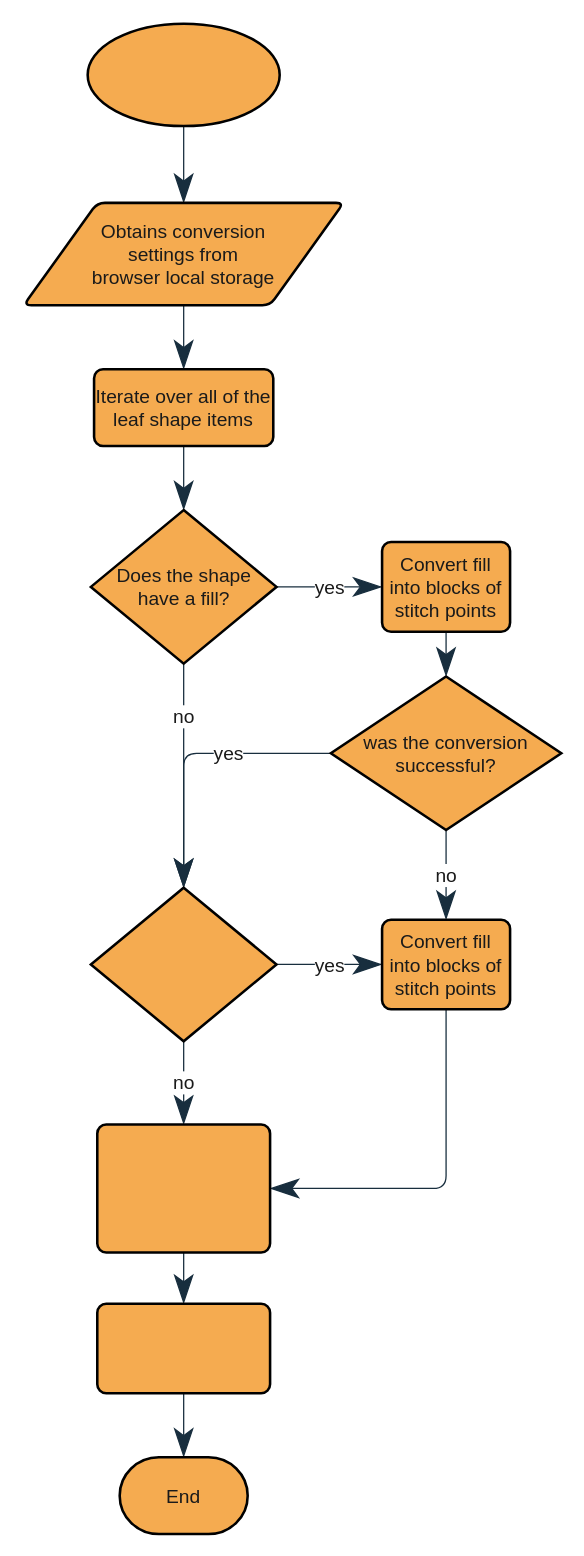
Some shapes in this 584 by 1556 pixel diagram are drawn without their labels. The box of each missing label's shape, as (x1, y1, x2, y2) in pixels:
Conversion function is called: (86, 22, 280, 127)
Does the shape have a stroke?: (89, 886, 277, 1042)
Remove null points from blocks, remove blocks with < 4 stitches: (95, 1123, 271, 1253)
Set canvas layer to SVG preview of the blocks of stitches: (95, 1302, 271, 1394)
